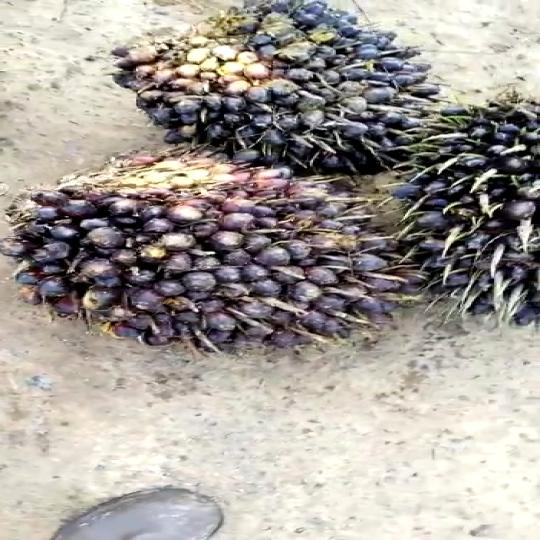mentah: (0, 151, 393, 342), (93, 0, 461, 168)
